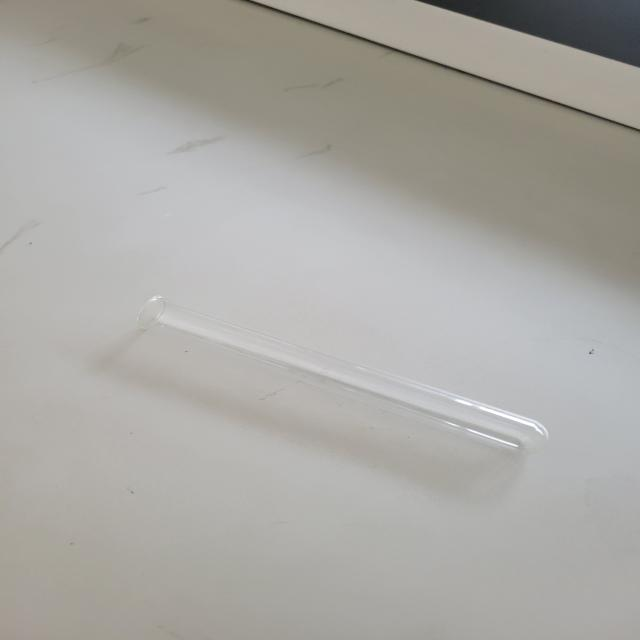Test_Tube: (115, 256, 587, 488)
